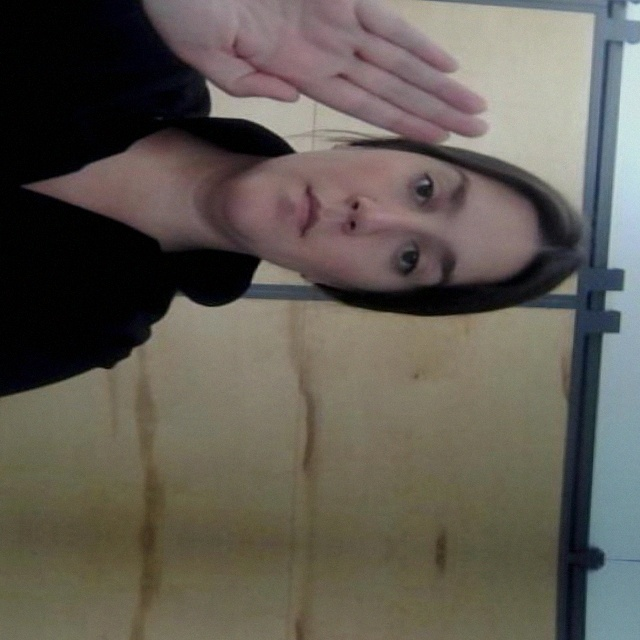Paper: (109, 0, 500, 145)
